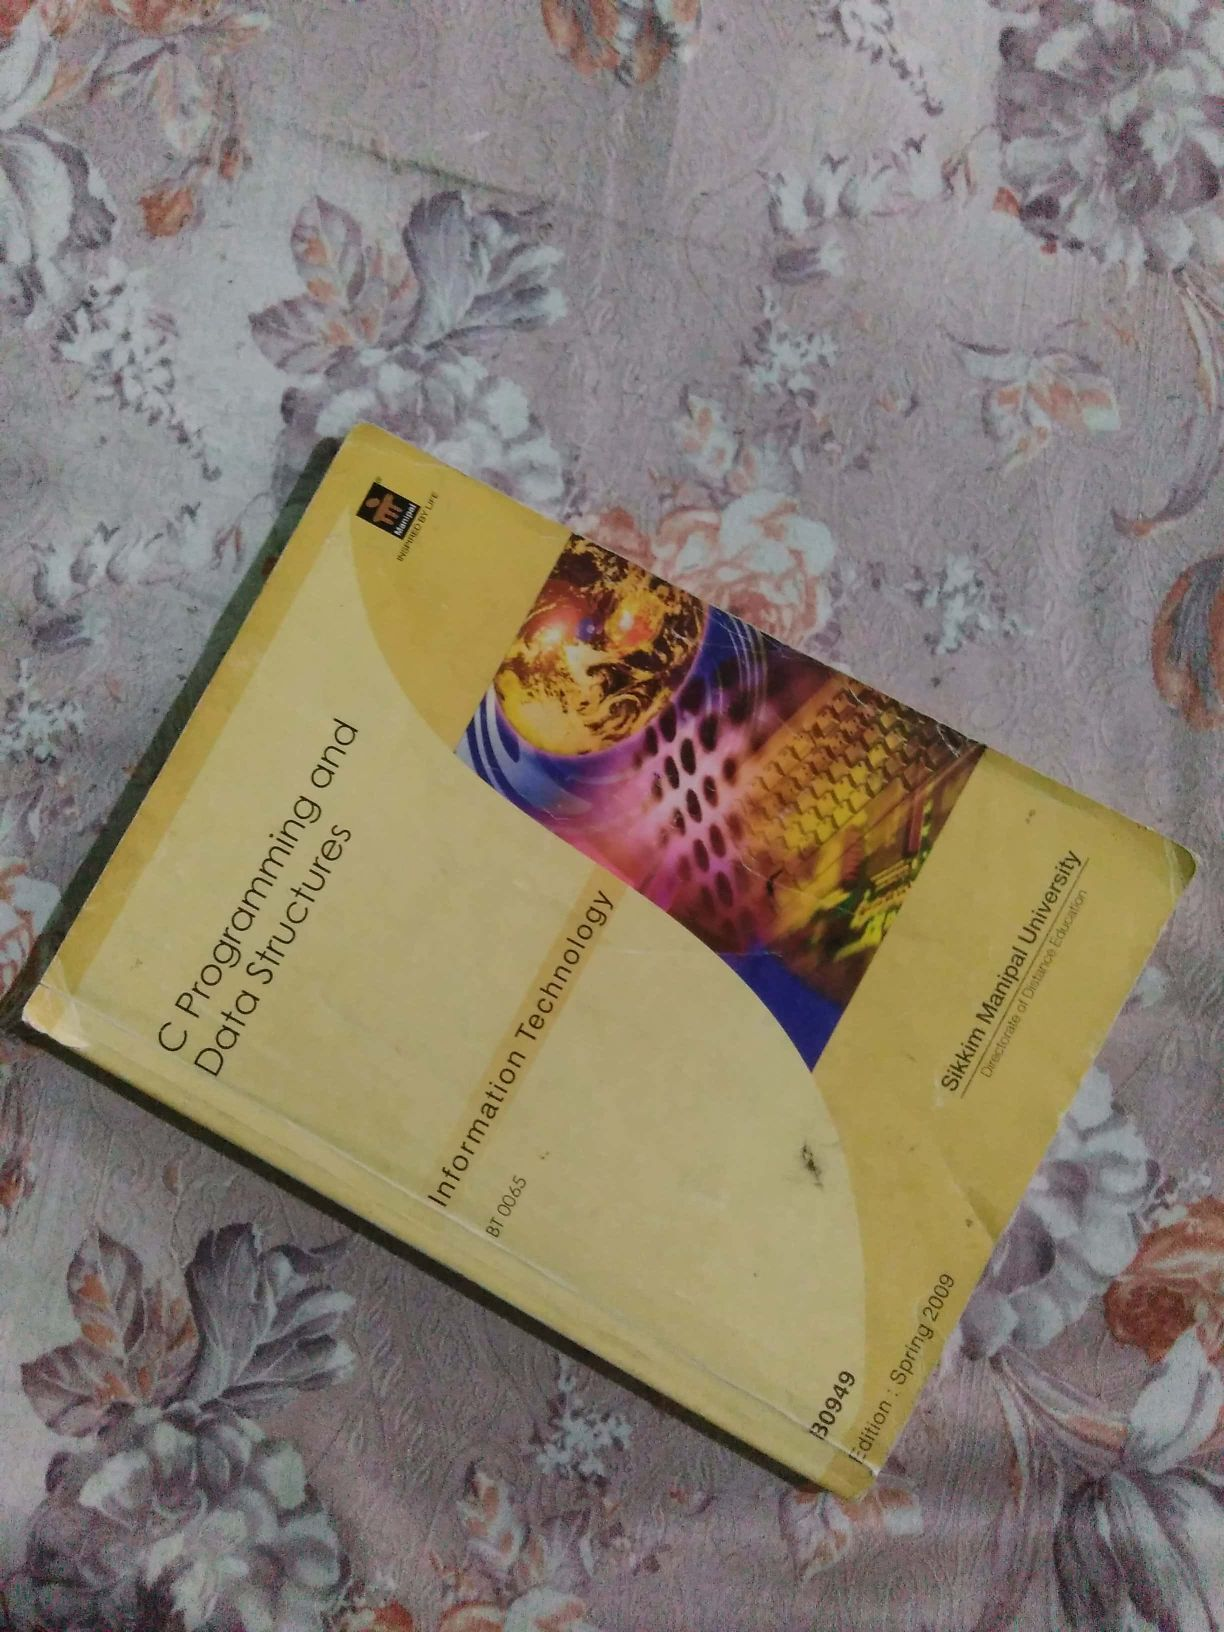clang: (75, 445, 1134, 1486)
